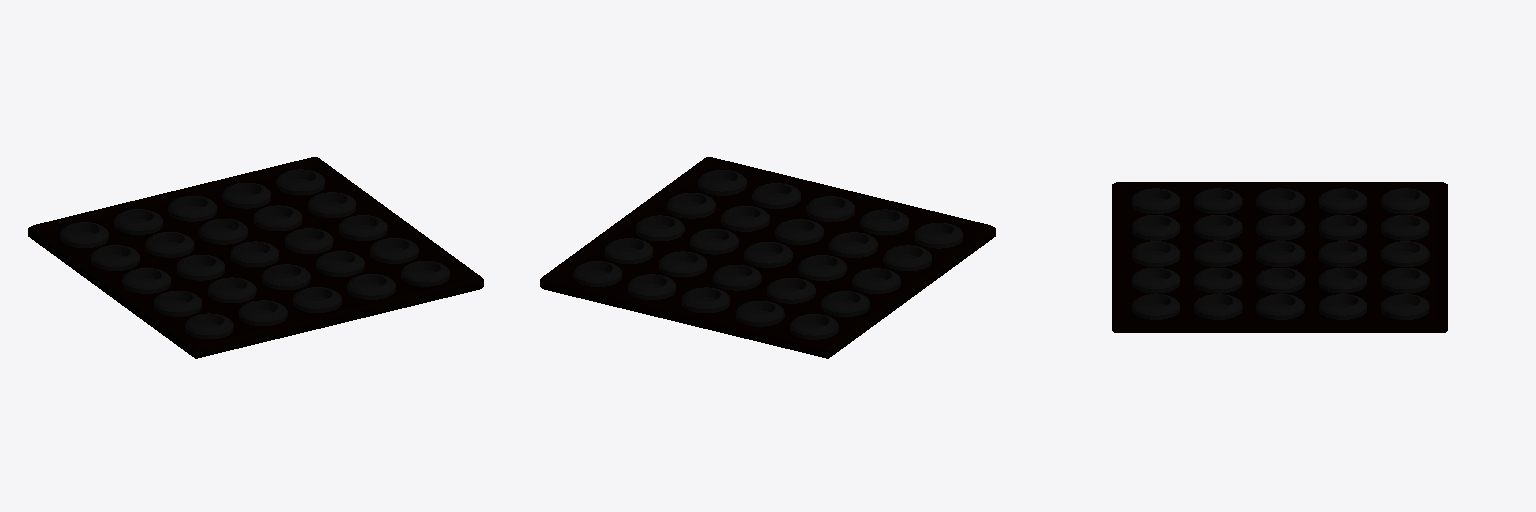
Rendered from trap_no_spike.obj.
3 views of the same model, side by side, from view 1: azimuth 30°, elevation 25°; view 2: azimuth 150°, elevation 25°; view 3: azimuth 270°, elevation 25° (orthographic).
Visible parts, largest first — view 1: Cube, Cylinder; view 2: Cube, Cylinder; view 3: Cylinder, Cube.
Boxes of the visible parts, box(x1,y1,x2,y2) form: Cube: box(28, 157, 483, 358); Cylinder: box(60, 169, 449, 338); Cube: box(540, 157, 995, 358); Cylinder: box(573, 170, 962, 339); Cylinder: box(1132, 188, 1429, 319); Cube: box(1112, 182, 1447, 332).
Size of the model in its own units: 10 by 0.5024 by 10.